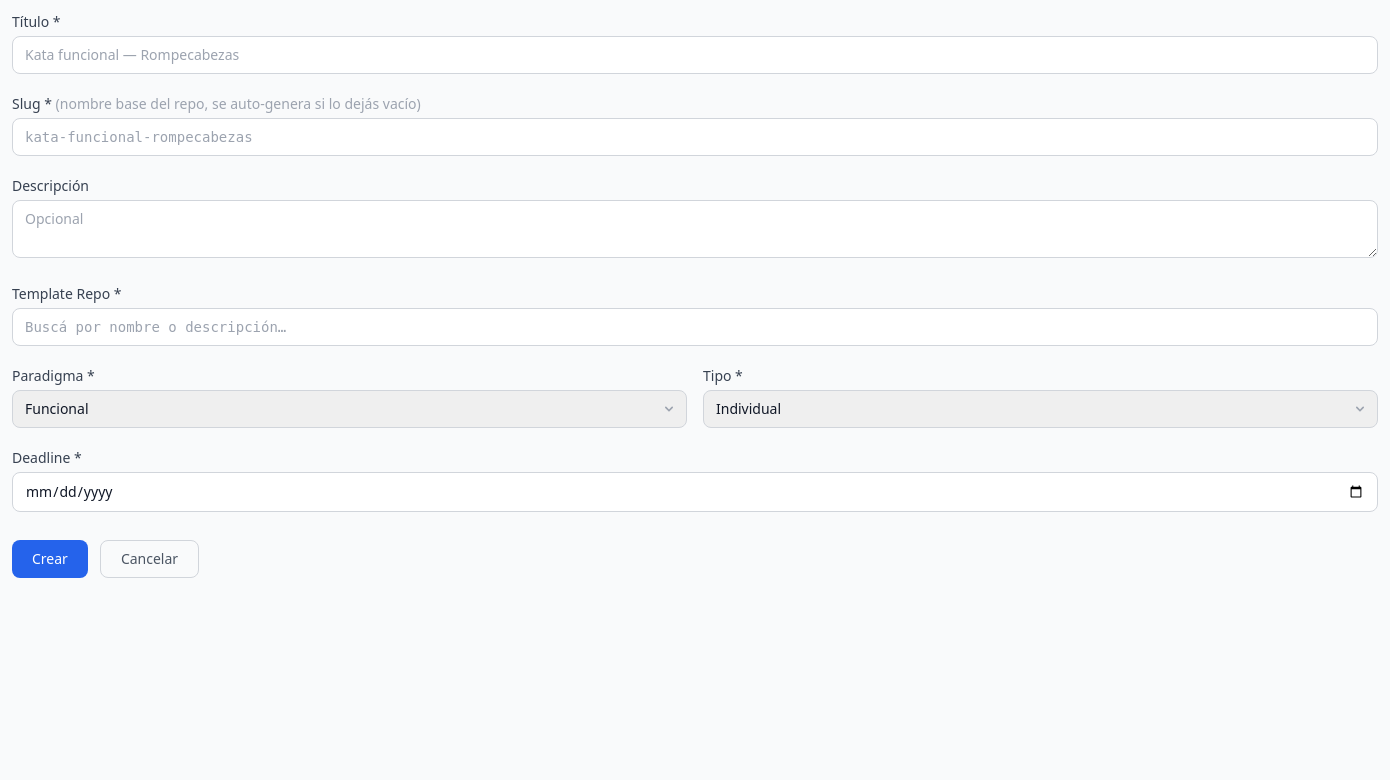
Test case: AssignmentForm › combobox de templates › filtra templates por nombre al escribir
Step 1. Type "kata" into the field with placeholder "Buscá por nombre o descripción…" → (695, 327), box left=12, top=308, right=1378, bottom=346
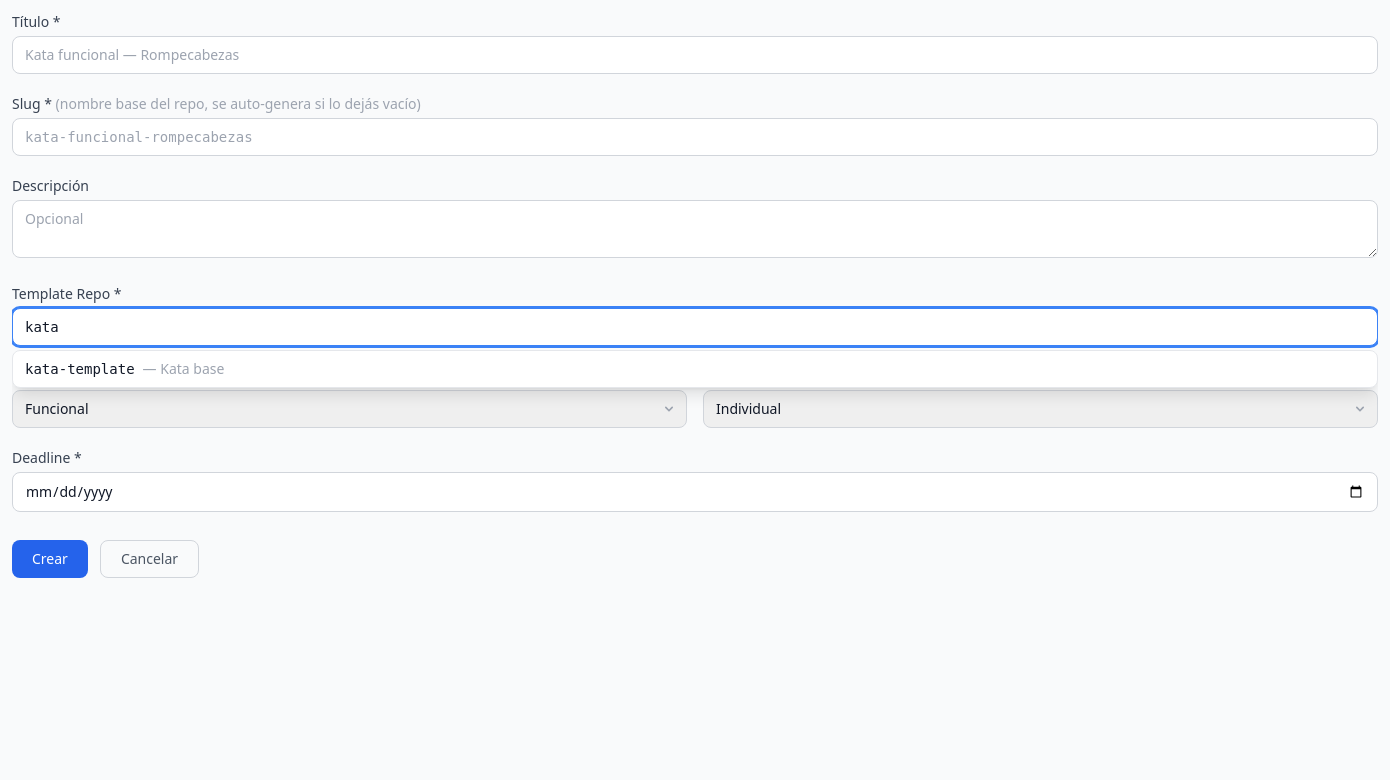
Expected: the text "kata-template" is shown, left=25, top=361, right=135, bottom=377
